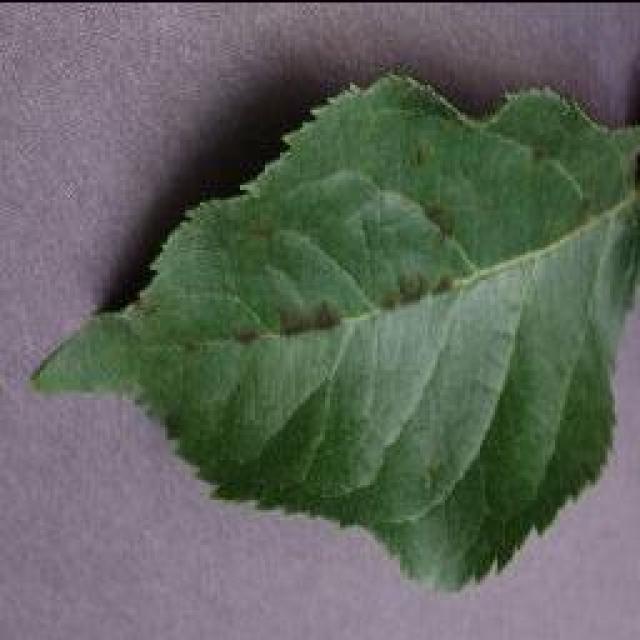apple scab disease: (28, 62, 638, 592)
